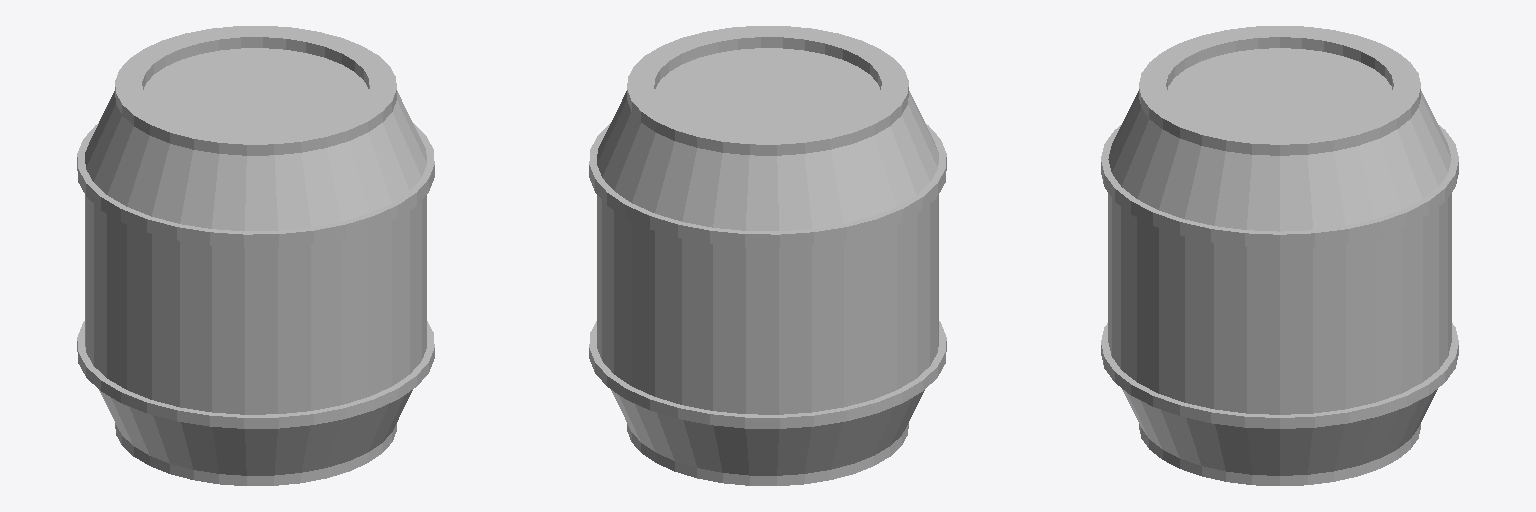
File: barrel.obj
The picture shows the model from 3 angles: view 1: azimuth 30°, elevation 25°; view 2: azimuth 150°, elevation 25°; view 3: azimuth 270°, elevation 25°; orthographic projection.
Parts seen in each view (by area): view 1: Cylinder; view 2: Cylinder; view 3: Cylinder.
Boxes of the visible parts, x1,y1,x2,y2 form: Cylinder: [77, 26, 434, 485]; Cylinder: [589, 26, 946, 485]; Cylinder: [1101, 26, 1458, 485].
Size of the model in its own units: 1.67 by 1.76 by 1.67.